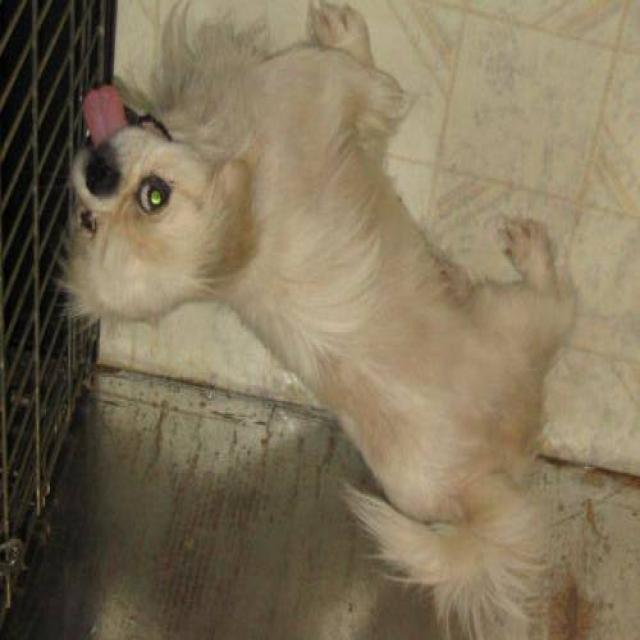dog: (43, 0, 602, 597)
